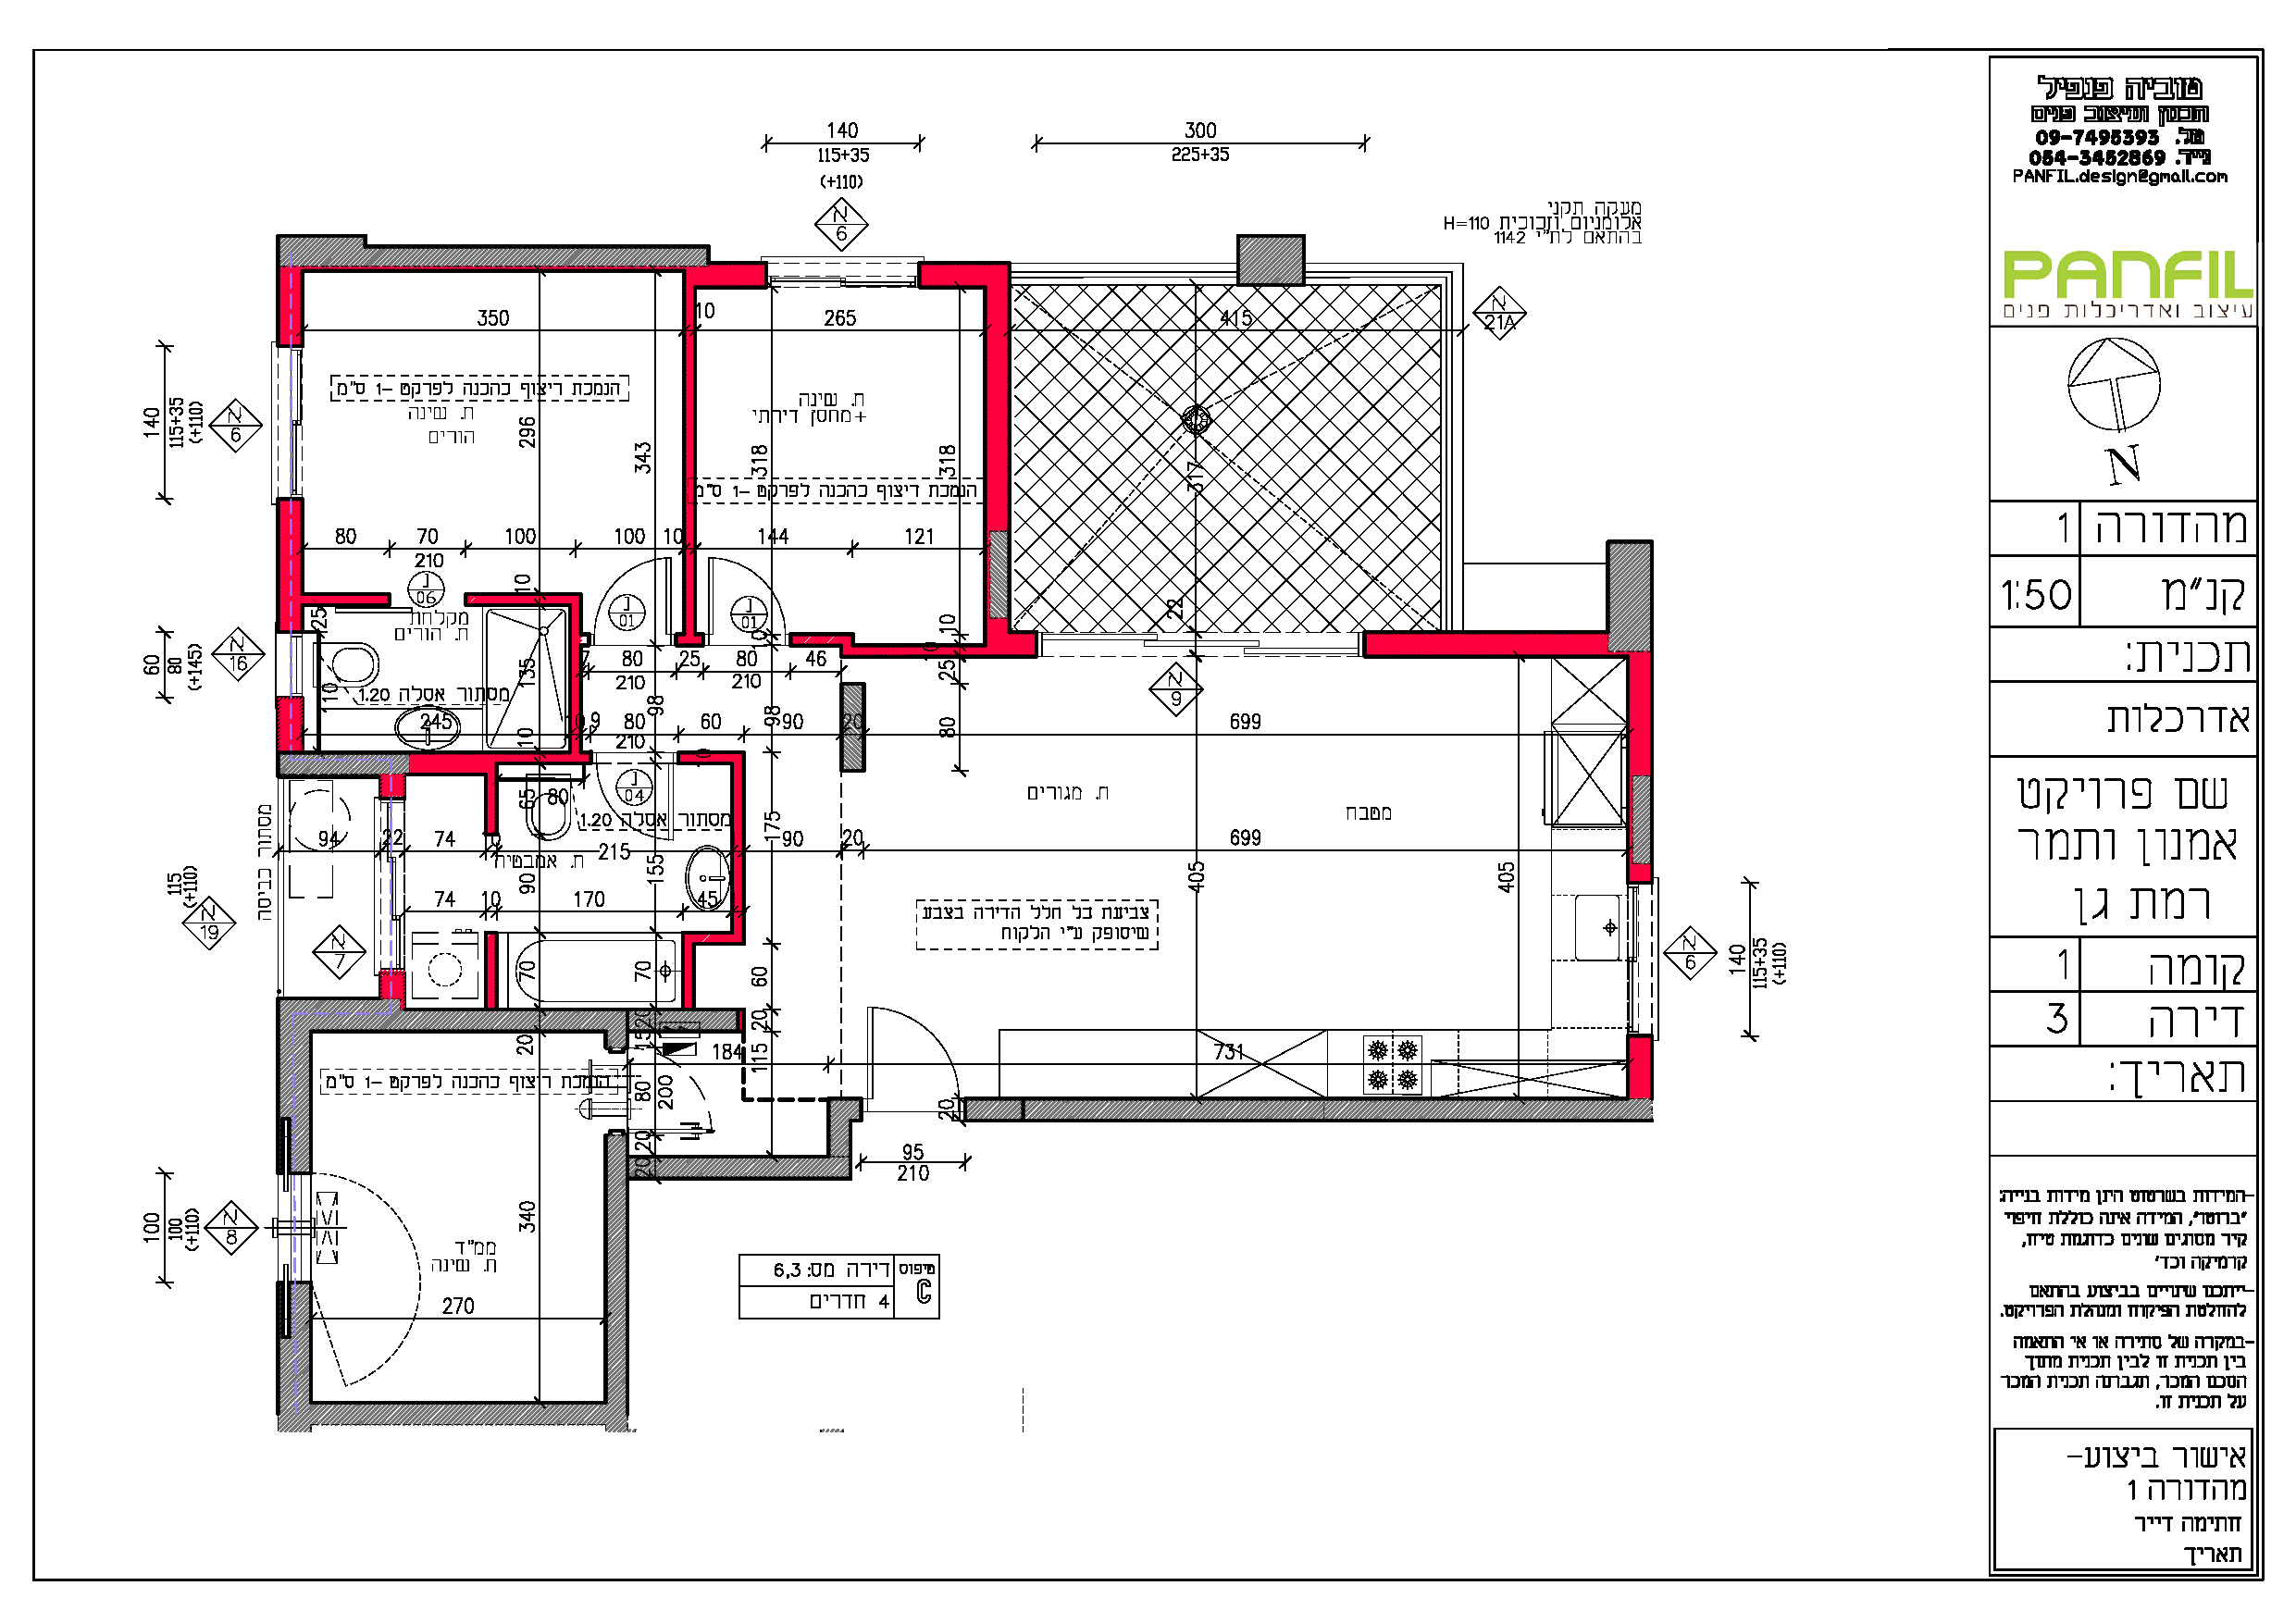door: (852, 994, 978, 1080), (704, 548, 803, 634), (592, 548, 675, 638)
rd: (1908, 30, 2296, 1616)
wall: (959, 1091, 1655, 1128), (276, 228, 715, 274), (592, 1136, 645, 1444), (671, 227, 704, 648), (260, 1393, 634, 1428), (1360, 629, 1665, 659), (276, 1006, 618, 1033), (986, 258, 1014, 523), (1602, 539, 1658, 660), (286, 1005, 313, 1177), (659, 1156, 852, 1179), (279, 754, 409, 775), (921, 263, 1012, 292), (733, 757, 745, 936), (1628, 660, 1648, 768), (829, 1101, 850, 1179), (845, 648, 1029, 655), (692, 267, 762, 285), (415, 754, 488, 769), (297, 595, 392, 602)
